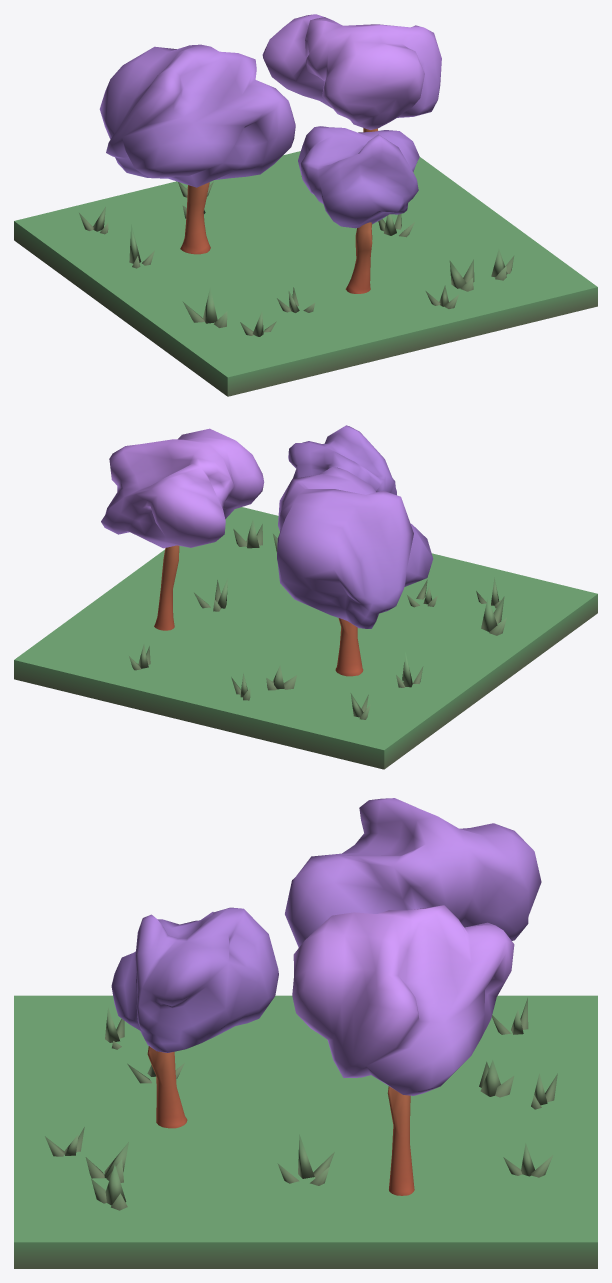
Rendered from grass-trees.glb.
3 views of the same model, one above another, from view 1: azimuth 30°, elevation 25°; view 2: azimuth 150°, elevation 25°; view 3: azimuth 270°, elevation 25° (orthographic). The views are drawn at different scales.
Visible parts, largest first — view 1: grass-trees; view 2: grass-trees; view 3: grass-trees.
Boxes of the visible parts, box(x1,y1,x2,y2) form: grass-trees: box(14, 14, 597, 396); grass-trees: box(14, 425, 597, 769); grass-trees: box(14, 798, 597, 1268).
Bounding box in the file's own units: 1 × 0.5315 × 1.
1 material, 1 textured.
